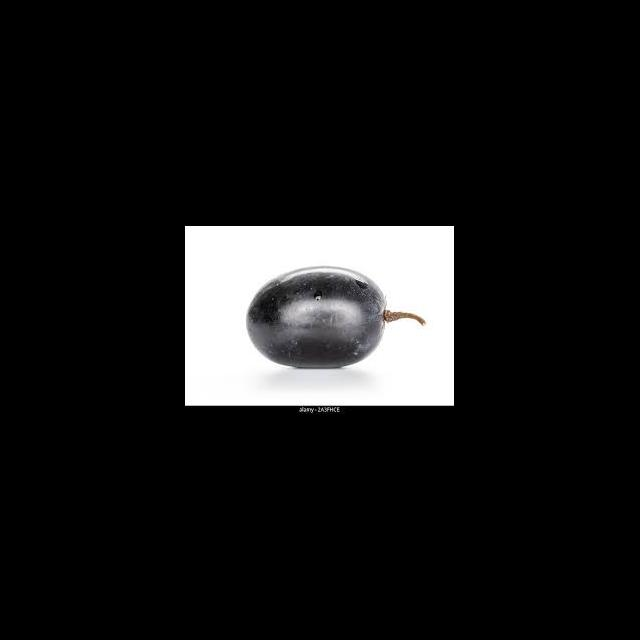grape: (245, 264, 426, 368)
